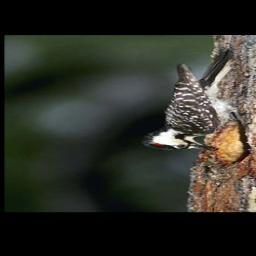Woodpecker: (136, 48, 253, 152)
